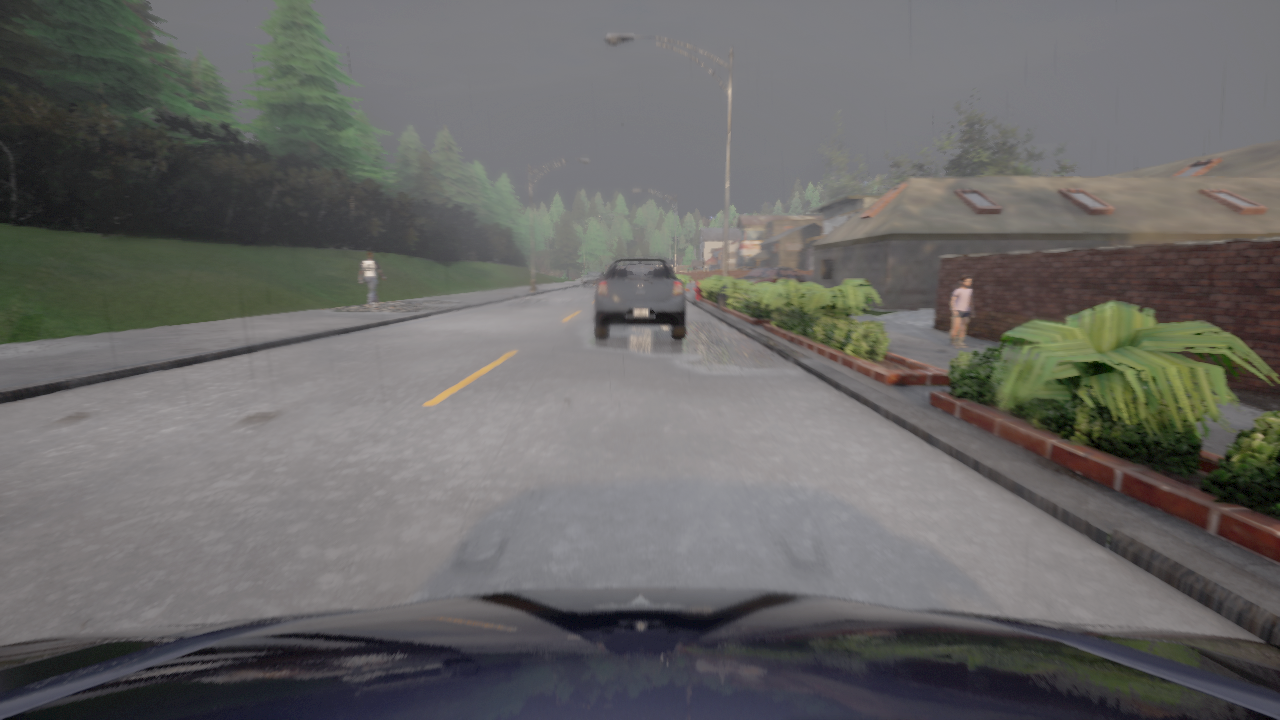cyclist: (0, 588, 1279, 719), (594, 258, 685, 338), (734, 267, 811, 293), (582, 271, 604, 287)
pedestrian: (948, 275, 973, 347), (359, 252, 384, 307)
